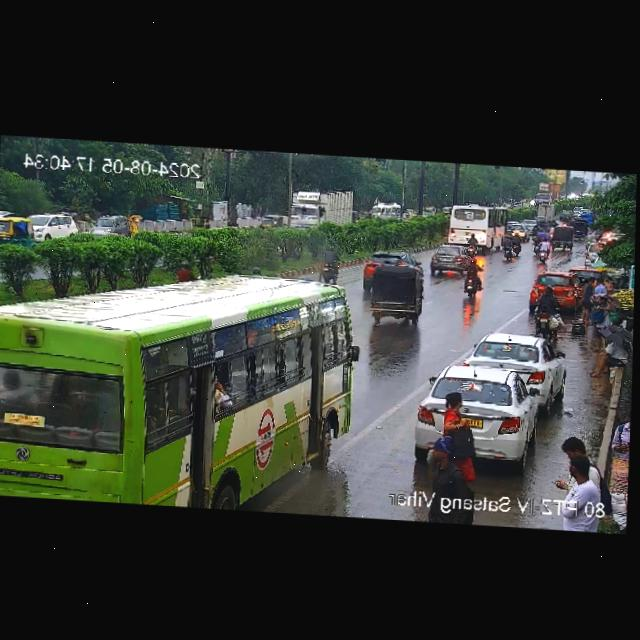bus: (0, 256, 361, 514), (369, 201, 398, 222)
car: (412, 364, 558, 468), (467, 331, 561, 396), (361, 262, 423, 324), (361, 245, 419, 287), (28, 206, 79, 246), (526, 271, 578, 306), (79, 209, 128, 242), (424, 246, 468, 276), (0, 211, 32, 251), (548, 224, 575, 252), (257, 212, 282, 230), (507, 221, 530, 237), (569, 218, 586, 239), (356, 208, 369, 221), (559, 209, 572, 221), (501, 199, 514, 209), (573, 205, 582, 214)
motorcycle: (530, 285, 567, 332), (455, 260, 486, 299), (499, 231, 522, 261), (530, 238, 551, 263)
person: (422, 410, 475, 492), (551, 436, 597, 505), (558, 456, 598, 532), (582, 329, 629, 377), (439, 381, 473, 443), (590, 291, 617, 336), (576, 276, 599, 326), (127, 212, 142, 242)
truck: (287, 186, 358, 233), (440, 203, 507, 251), (531, 182, 560, 207), (537, 202, 556, 225)
